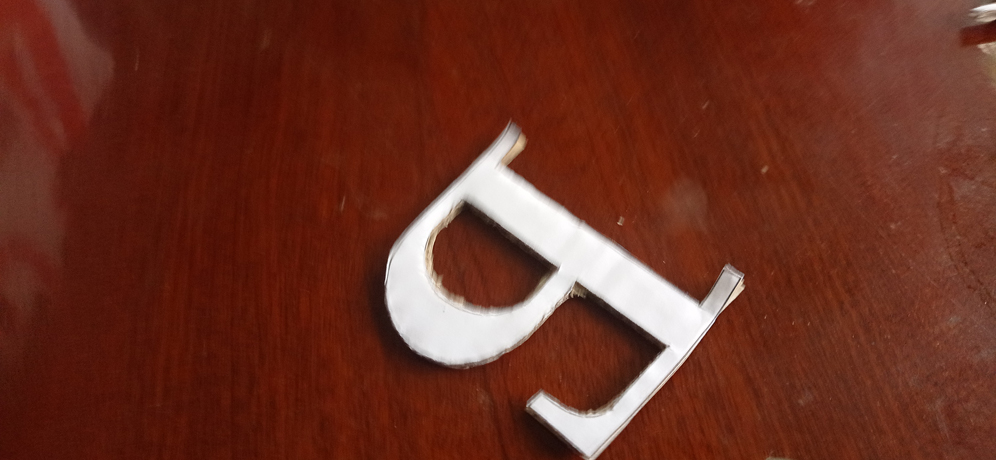b: (376, 116, 747, 460)
